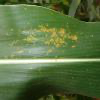Corn rust leaf: (1, 5, 99, 99)
